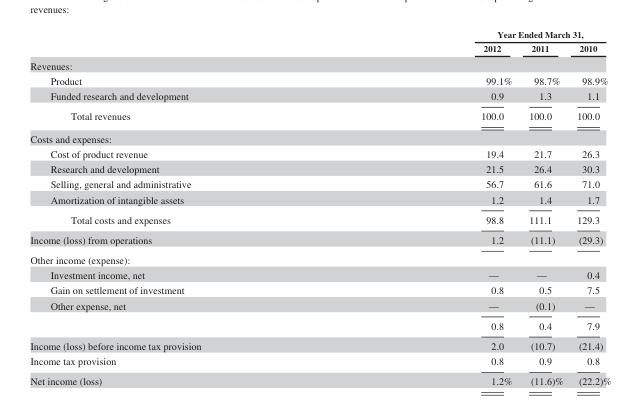table: (29, 28, 610, 386)
table column: (29, 28, 340, 386), (340, 28, 519, 386), (519, 28, 569, 386), (569, 28, 610, 386)
table column header: (29, 28, 610, 56)
table projected row header: (29, 127, 610, 146), (29, 249, 610, 267), (29, 56, 610, 72)
table row: (29, 105, 610, 127), (29, 209, 610, 229), (29, 229, 610, 249), (29, 315, 610, 335), (29, 127, 610, 146), (29, 191, 610, 209), (29, 249, 610, 267), (29, 297, 610, 315), (29, 335, 610, 353), (29, 88, 610, 105), (29, 353, 610, 370), (29, 40, 610, 56), (29, 56, 610, 72), (29, 72, 610, 88), (29, 370, 610, 386), (29, 146, 610, 161), (29, 161, 610, 176), (29, 176, 610, 191), (29, 267, 610, 282), (29, 282, 610, 297), (29, 28, 610, 40)
table spanning cell: (340, 28, 610, 40)
